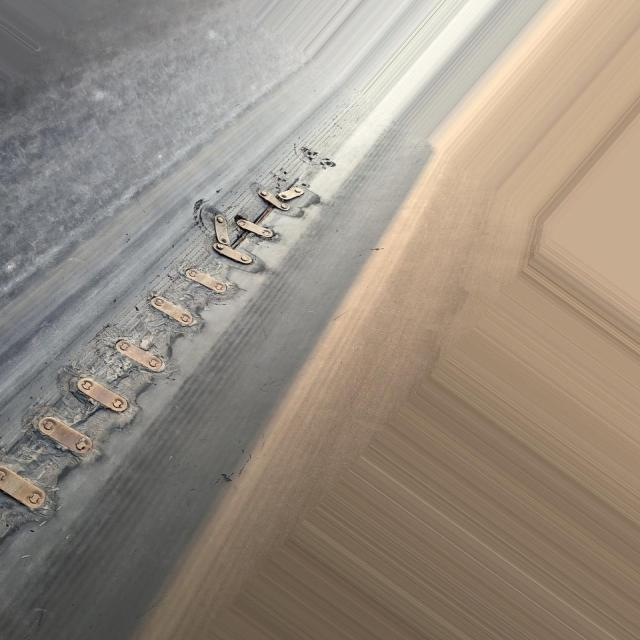patch work: (2, 141, 341, 553)
